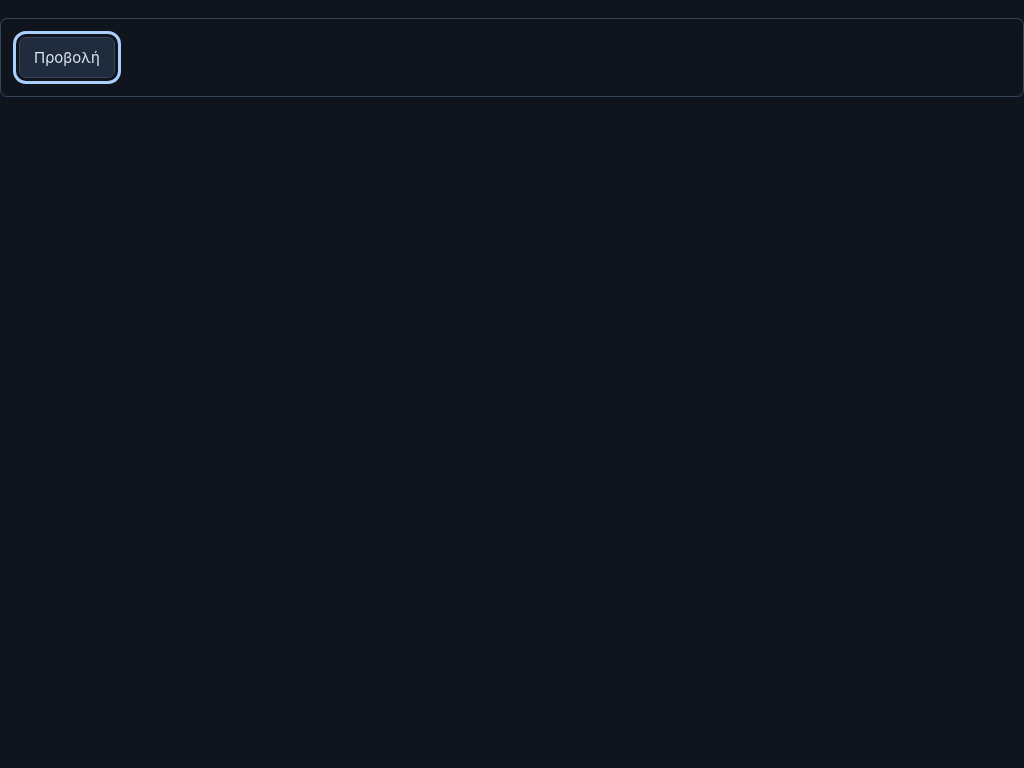
Test: safe file preview dialog › portals outside a disabled fieldset, focuses close and restores trigger focus
The image size is (1024, 768).
Click the button "Προβολή": (67, 58) [19,37,115,78]
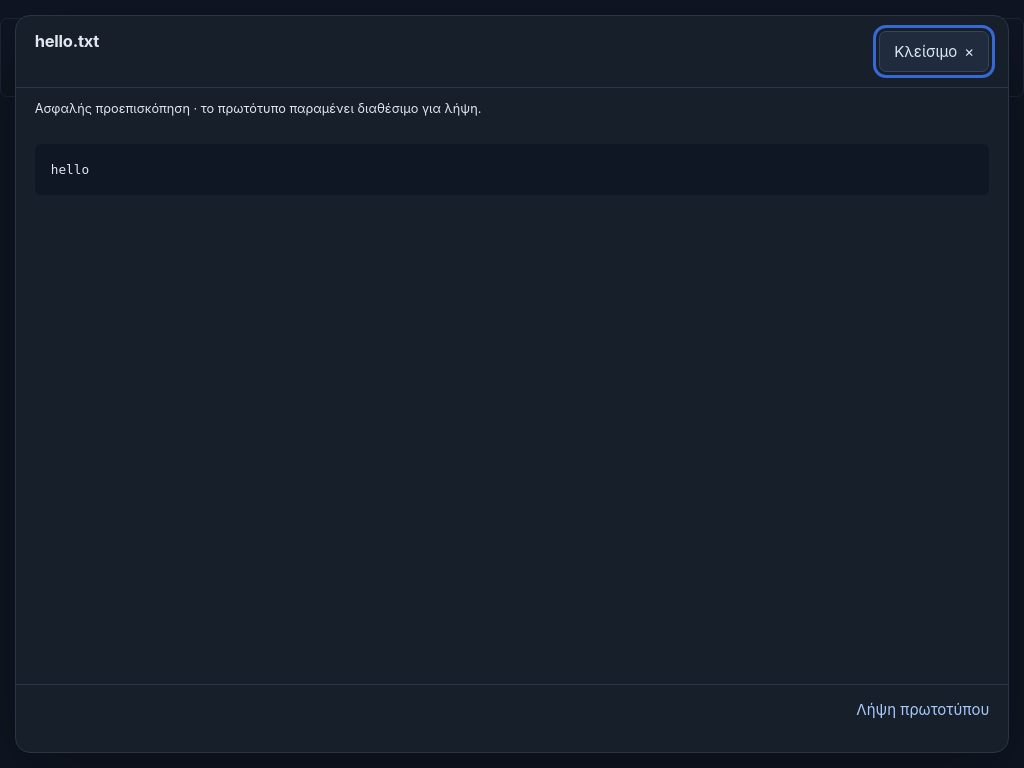
Now the text "hello" is shown, box [35,144,989,195]
Click the button with aria-label "Κλείσιμο προεπισκόπησης": (934, 52) [879,31,989,72]
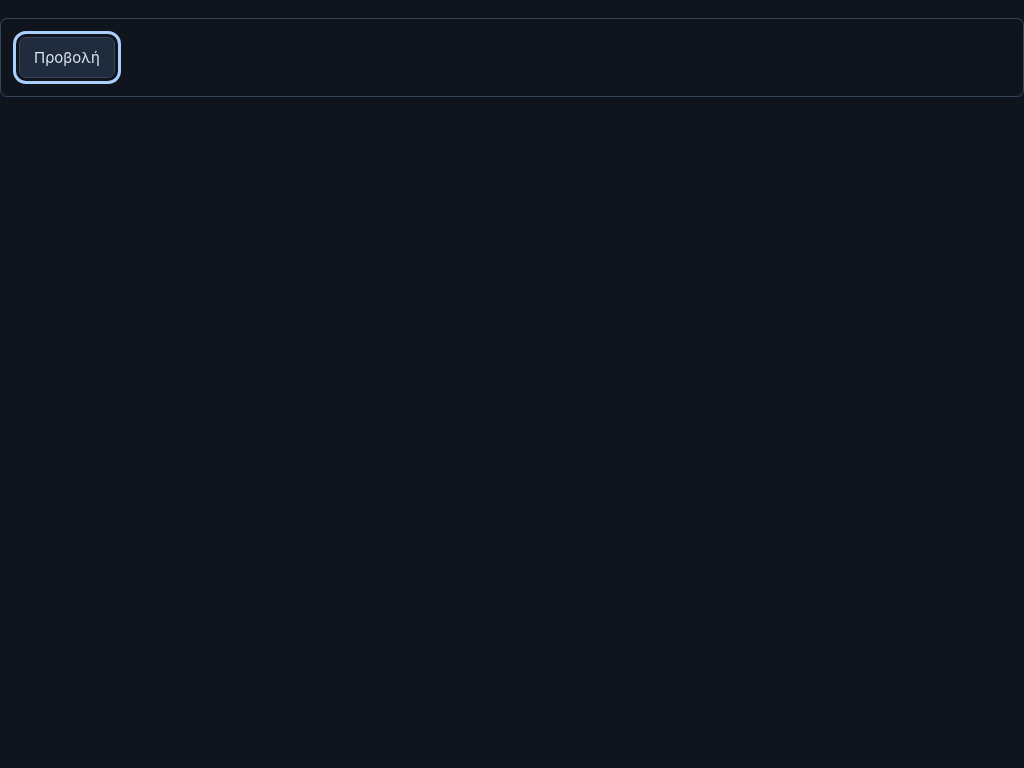
Now the dialog is gone
